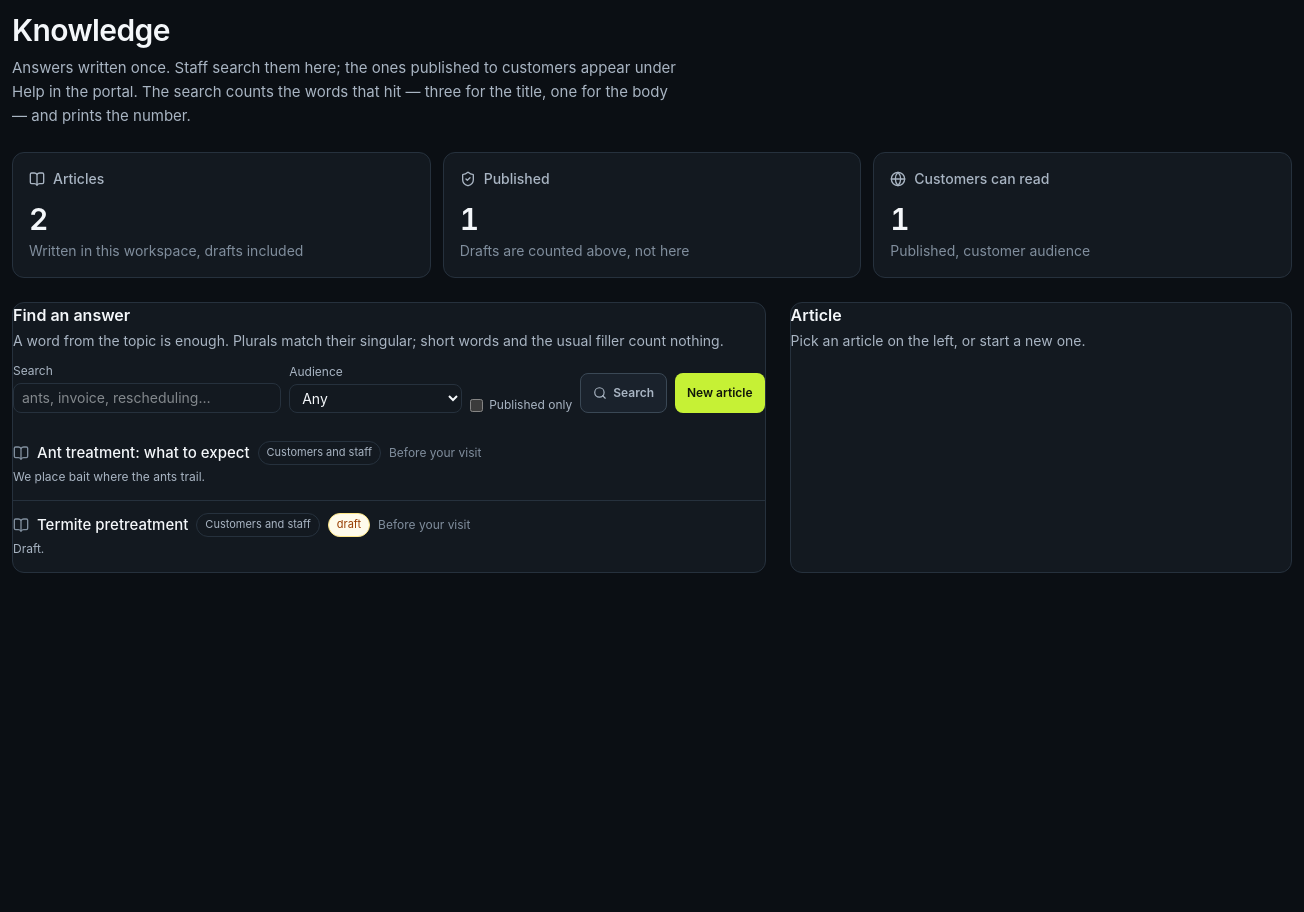
Test case: the Knowledge page › lists what is written, prints the rank beside a search hit, and saves a new article with the slug it derived
Expected: the number of list items is 2, [13,429,765,501]; [13,513,470,557]
Expected: the text "draft" is shown, [328,513,370,537]
Type "ants" into the field named "Search the knowledge base". click: [147, 398]
box: [13,383,281,413]
Click the button "Search". click: [624, 393]
box: [580,373,667,413]
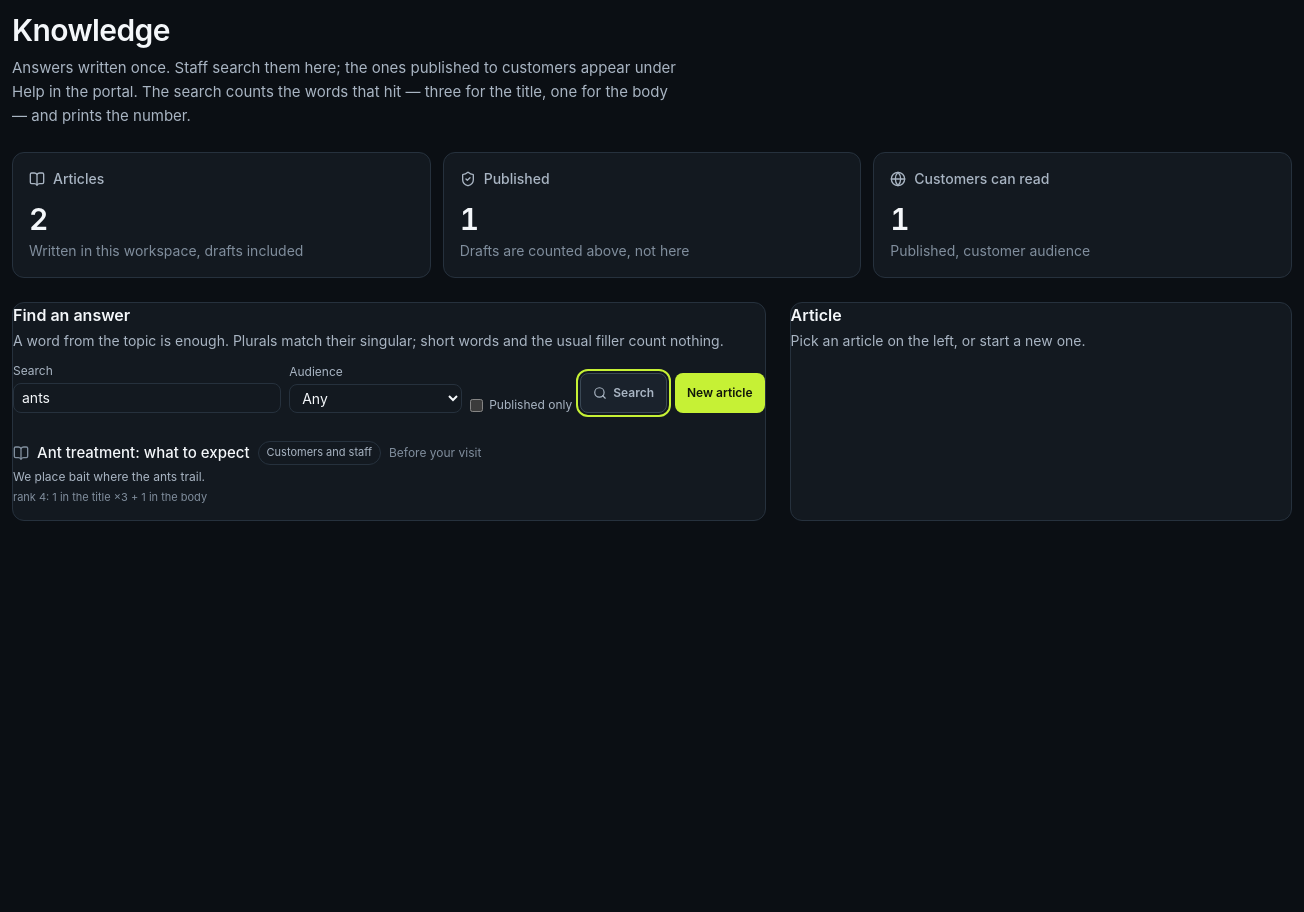
Now the text with test id "services-knowledge-rank-ant-treatment-what-to-expect" reads "rank 4: 1 in the title ×3 + 1 in the body", box [13,490,207,504]
Click the button with test id "services-knowledge-new". click: [720, 393]
box: [675,373,765,413]
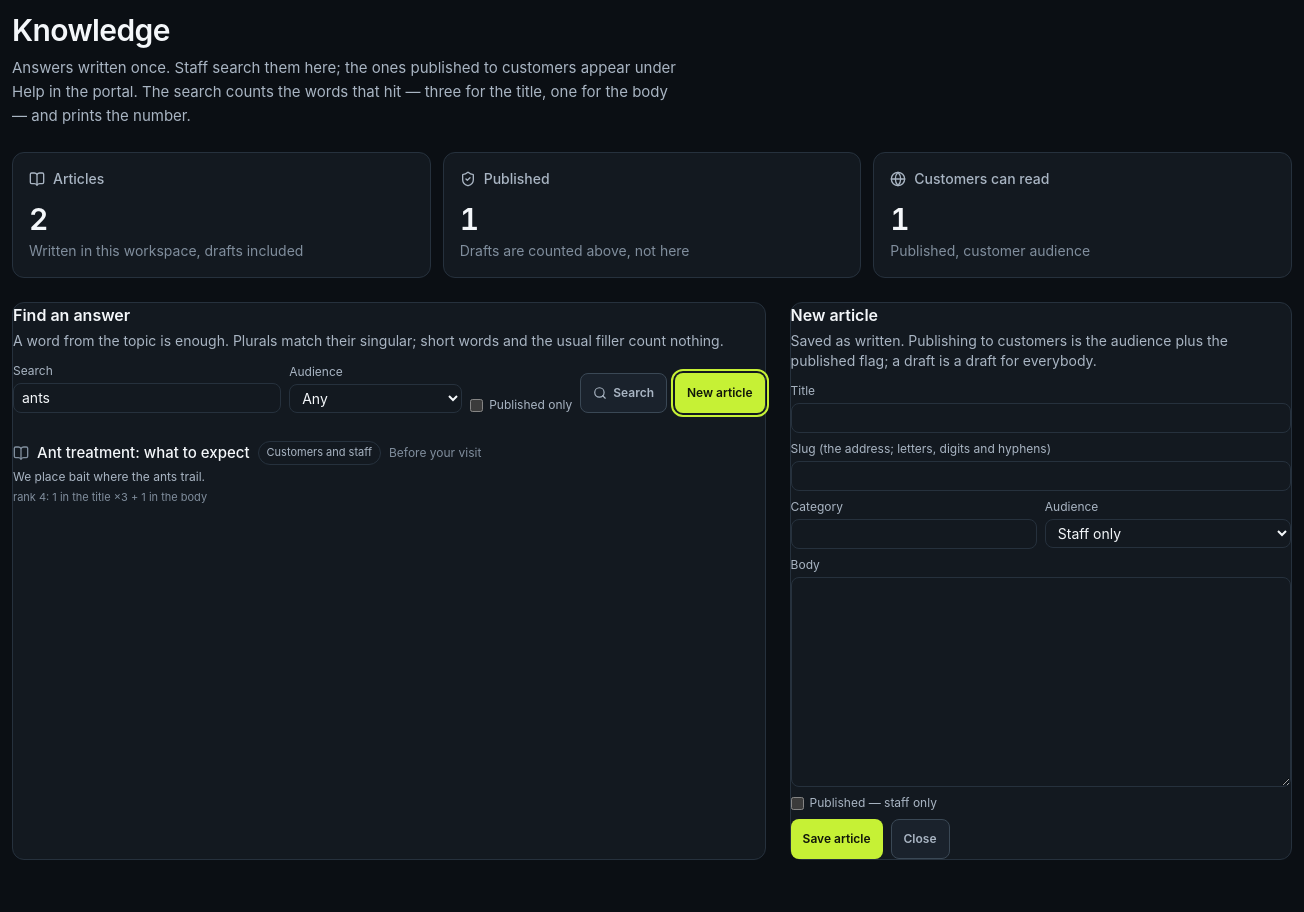
Type "Reading your invoice" into the field labelled "Title". click: [1041, 418]
box: [791,403,1291,433]
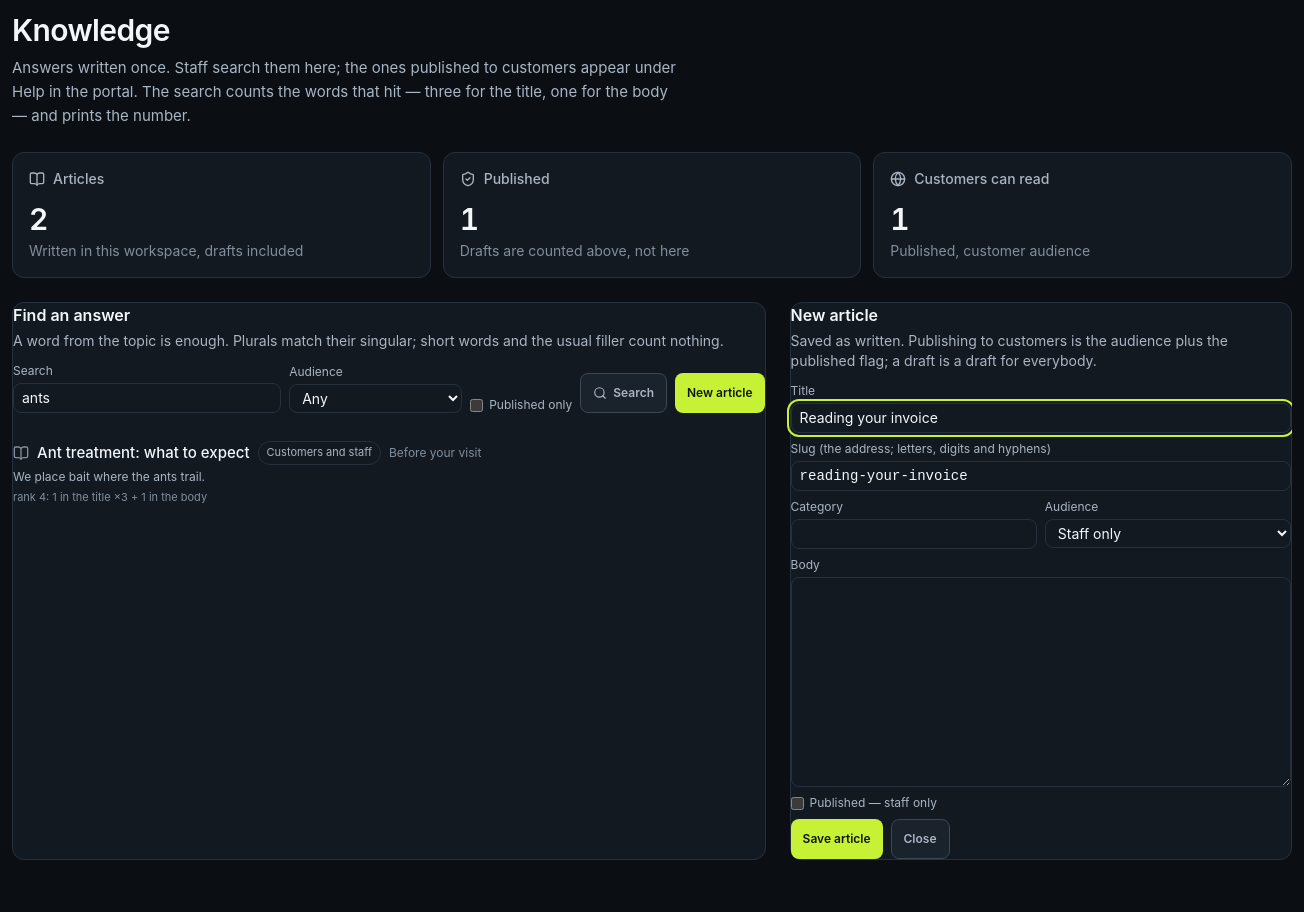
Now the field labelled "Slug" holds "reading-your-invoice", box [791,461,1291,491]
Type "An invoice lists each visit." into the text box labelled "Body". click: [1041, 682]
box: [791,577,1291,787]
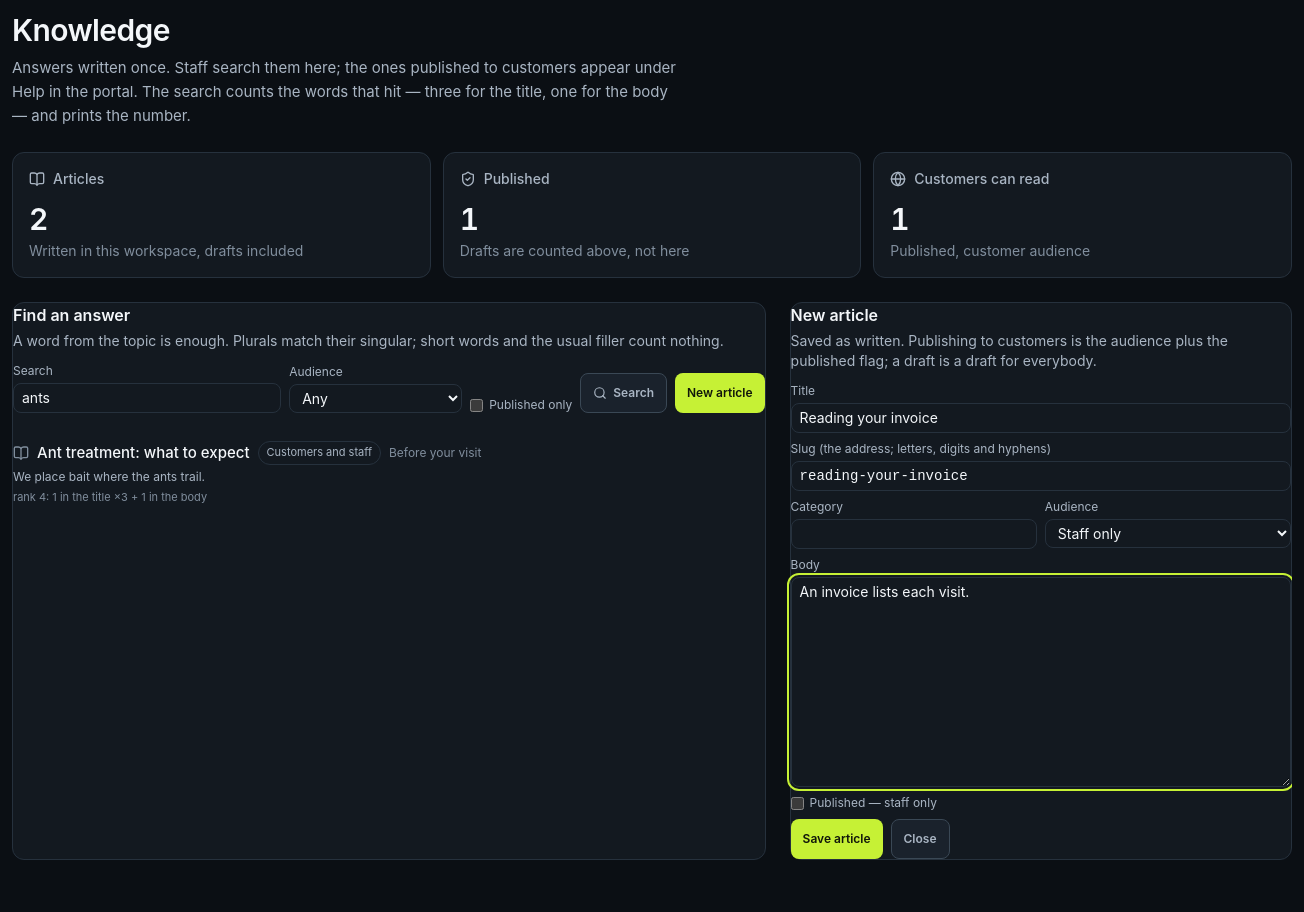
Select "Customers and staff" in the dropdown named "Article audience". click: [1168, 534]
box: [1045,519,1291,548]
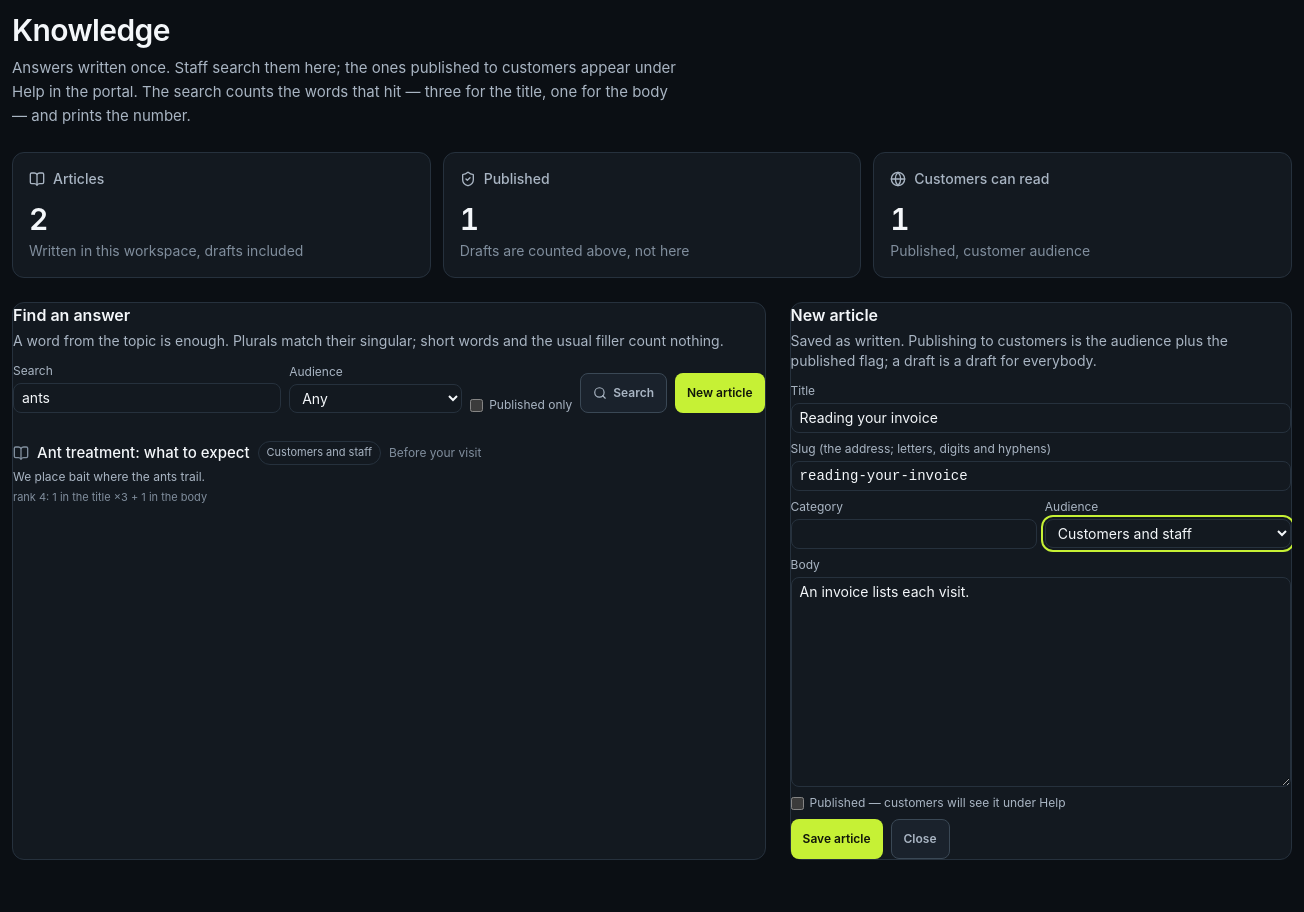
Click the button with test id "services-knowledge-save". click: [837, 839]
box: [791,819,882,859]
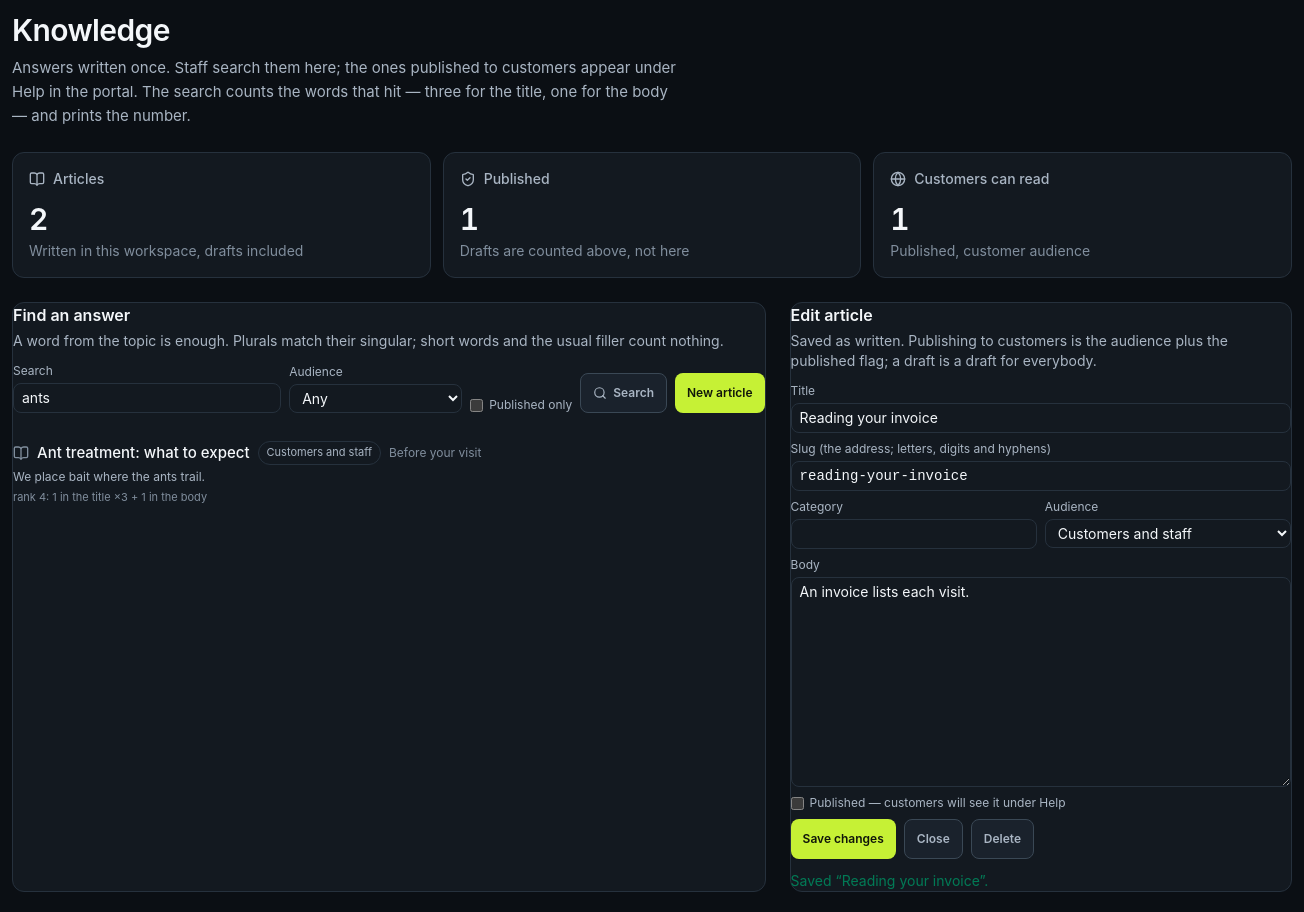
Now the text with test id "services-knowledge-message" reads "Saved “Reading your invoice”.", box [791,872,988,889]
